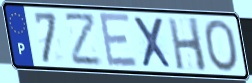7: (34, 11, 59, 64)
E: (97, 11, 140, 70)
H: (166, 16, 209, 74)
O: (202, 18, 241, 74)
X: (131, 15, 175, 71)
Z: (63, 12, 104, 67)
